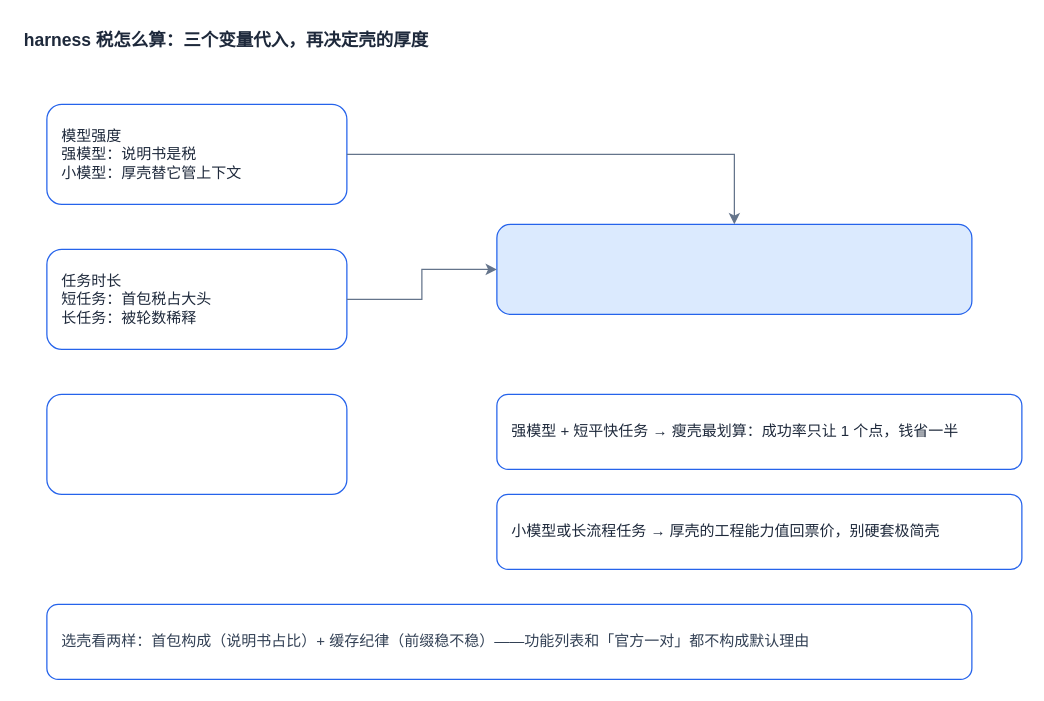
The diagram is 1044 pixels wide and 701 high, and some of its shapes have lost their labels. The shapes that lost their labels are listed below. From the top down, each one's centre as x and y in pixels, then its label:
At (x=734, y=268): "实付税额 ≈ 首包 token 量 × 轮数 ×（1 − 缓存折扣）".
At (x=196, y=443): "缓存命中 前缀稳定：重复部分打到一折以下 前缀乱改：税率打满".
